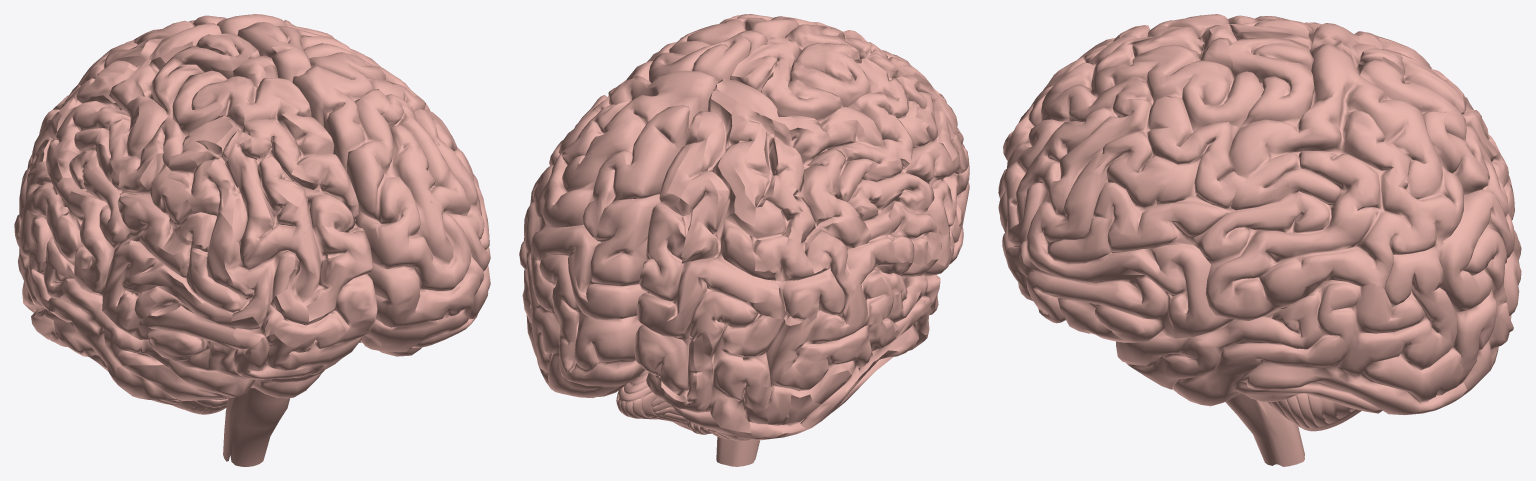
The model's file is brain2.glb.
3 renders of one model, left to right at view 1: azimuth 30°, elevation 25°; view 2: azimuth 150°, elevation 25°; view 3: azimuth 270°, elevation 25°, orthographic. The views are drawn at different scales.
Visible parts, largest first — view 1: Object_26, Object_14, Object_28, Object_12, Object_4, Object_18, Object_22; view 2: Object_28, Object_20, Object_18, Object_16, Object_12, Object_26, Object_14, Object_24, Object_8, Object_4; view 3: Object_14, Object_18, Object_8, Object_16, Object_26, Object_28, Object_4, Object_24, Object_20.
Boxes of the visible parts, <box> form: Object_26: <box>102,50,377,379</box>; Object_14: <box>272,43,490,352</box>; Object_28: <box>24,20,257,296</box>; Object_12: <box>14,167,255,401</box>; Object_4: <box>223,370,324,466</box>; Object_18: <box>189,14,381,220</box>; Object_22: <box>151,398,228,414</box>; Object_28: <box>659,44,941,294</box>; Object_20: <box>634,203,786,440</box>; Object_18: <box>530,34,751,236</box>; Object_16: <box>531,194,660,398</box>; Object_12: <box>749,266,940,440</box>; Object_26: <box>765,24,969,276</box>; Object_14: <box>620,14,827,199</box>; Object_24: <box>616,370,711,433</box>; Object_8: <box>519,202,626,396</box>; Object_4: <box>716,437,759,466</box>; Object_14: <box>998,37,1263,342</box>; Object_18: <box>1101,37,1488,320</box>; Object_8: <box>1116,246,1466,415</box>; Object_16: <box>1429,125,1521,397</box>; Object_26: <box>998,14,1259,199</box>; Object_28: <box>1230,16,1488,133</box>; Object_4: <box>1225,393,1304,466</box>; Object_24: <box>1267,393,1361,431</box>; Object_20: <box>1462,109,1521,259</box>.
Size of the model in its own units: 1.63 by 1.78 by 1.97.
1 material, 1 textured.
